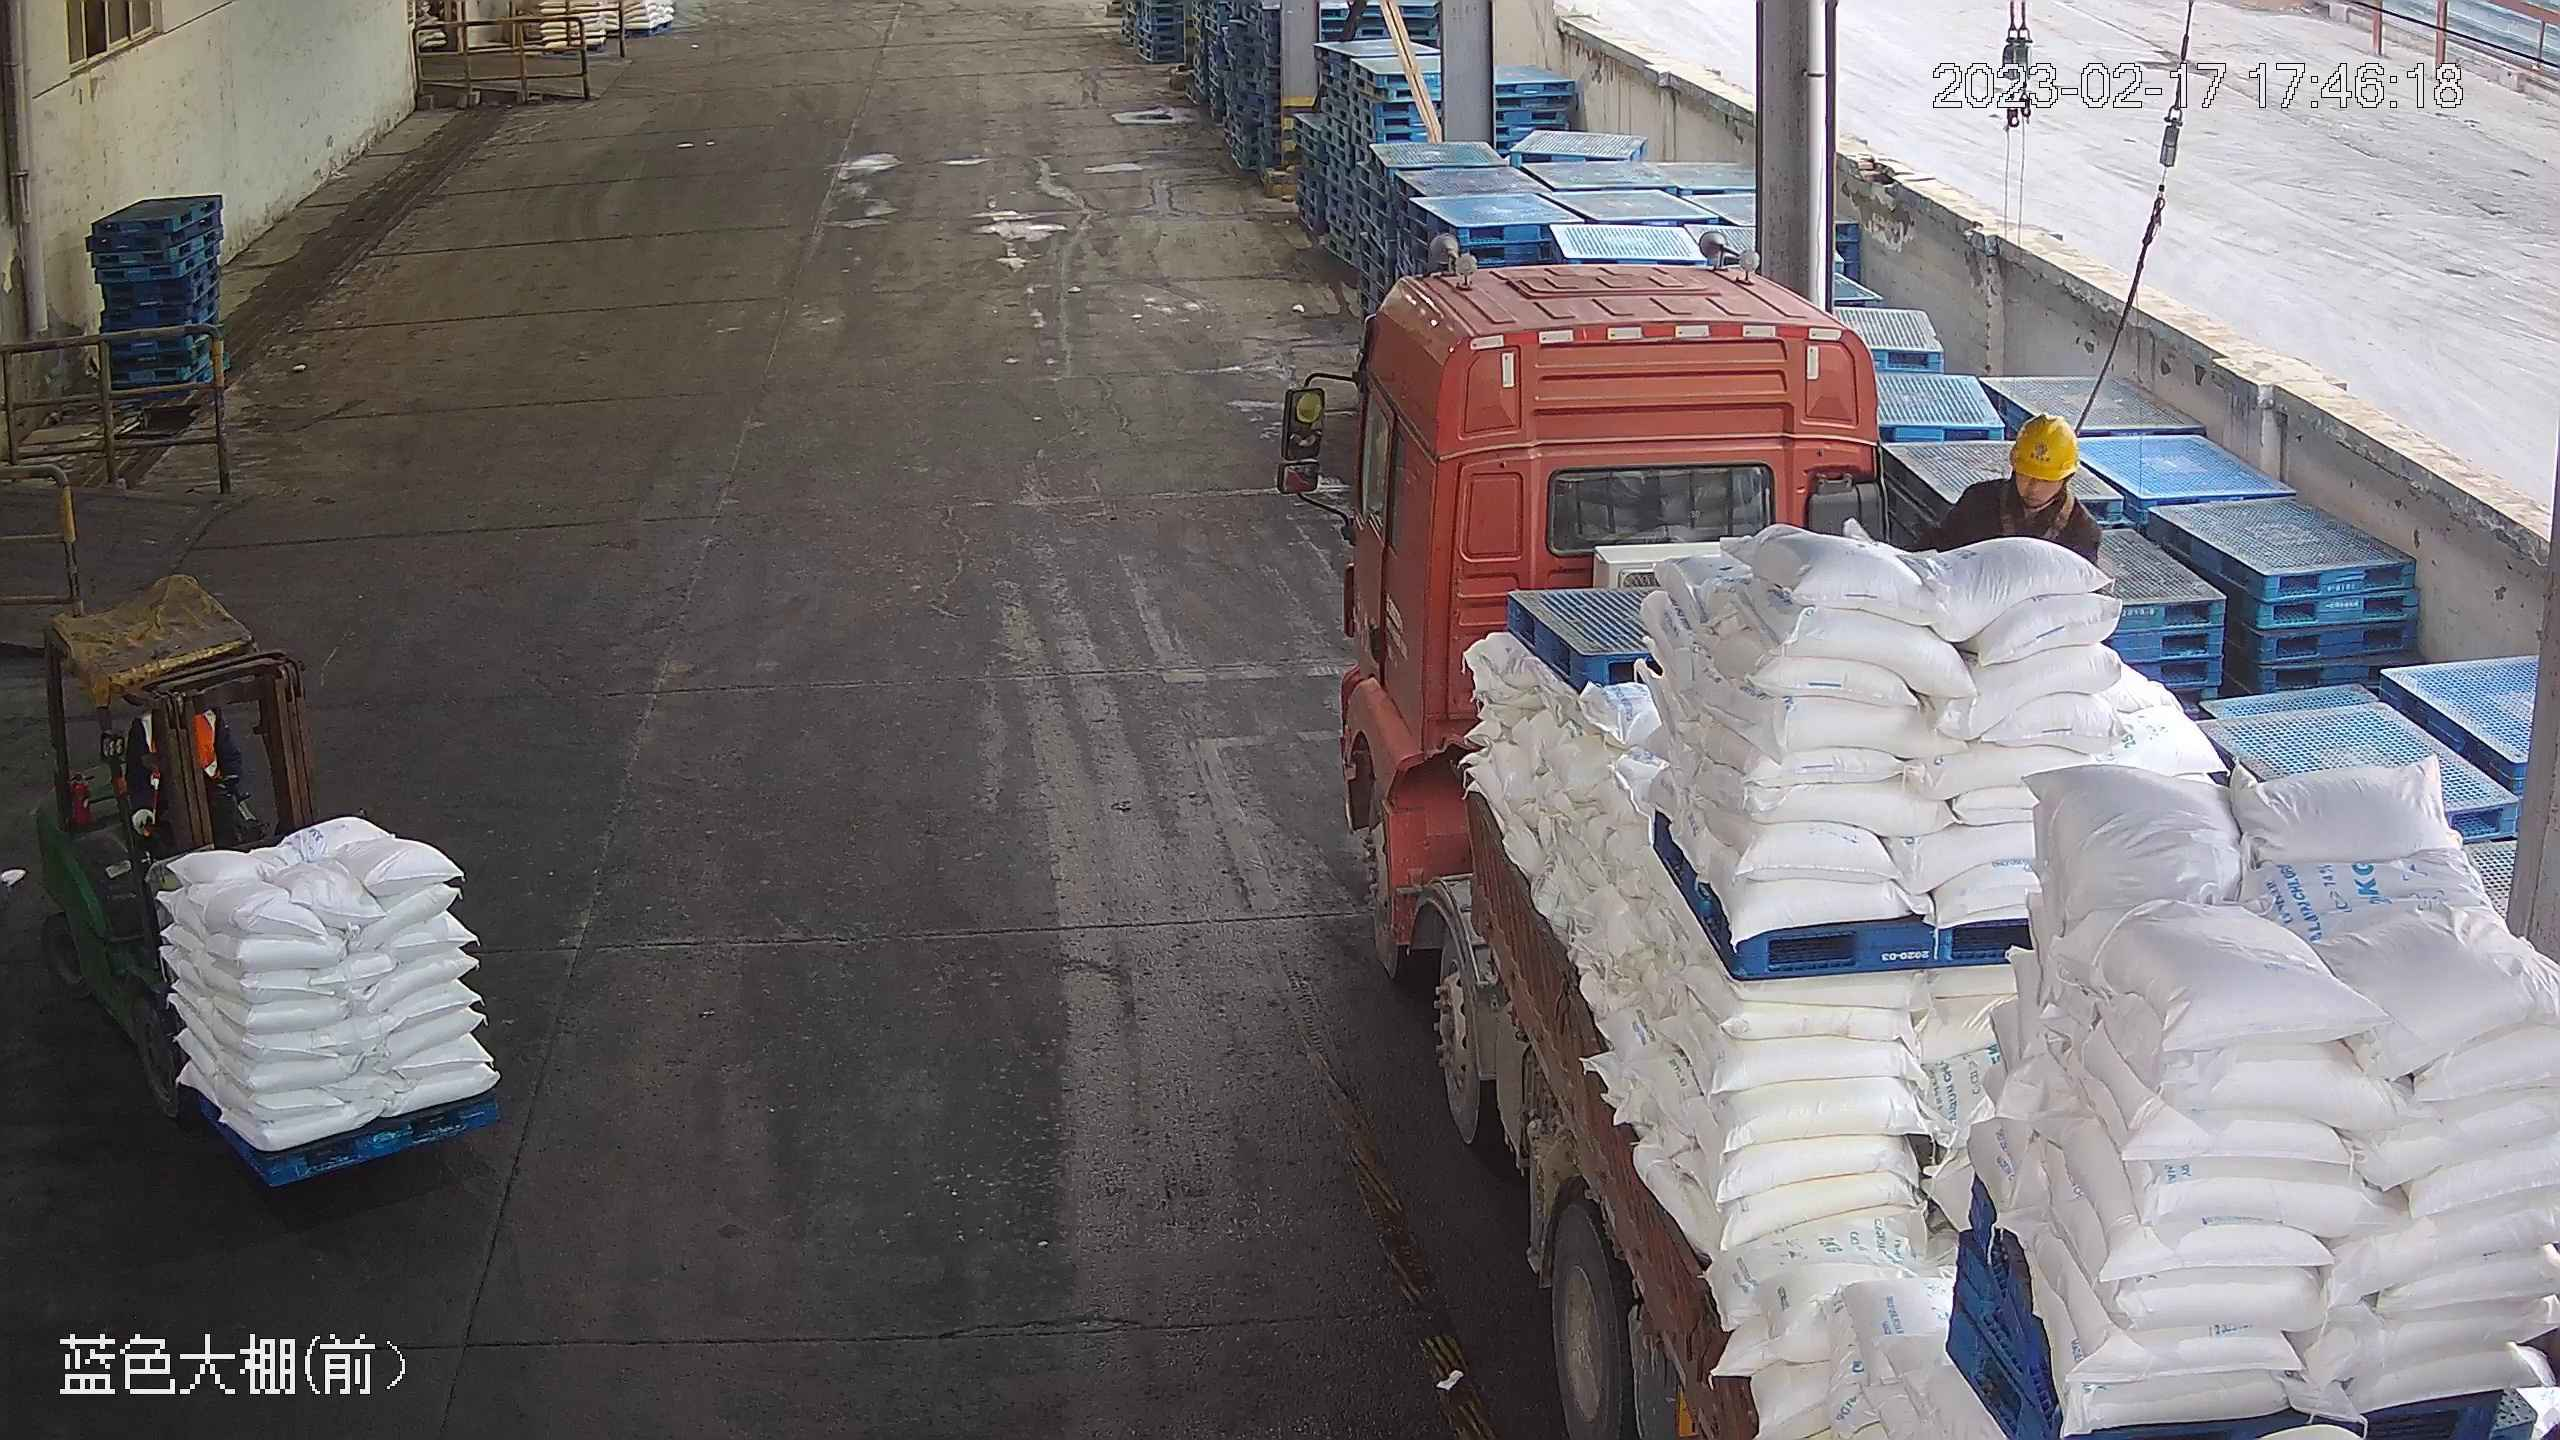belt: (1995, 475, 2073, 541)
head: (1948, 409, 2096, 534)
helmet: (2006, 411, 2084, 480)
truck: (1269, 262, 2560, 1440)
